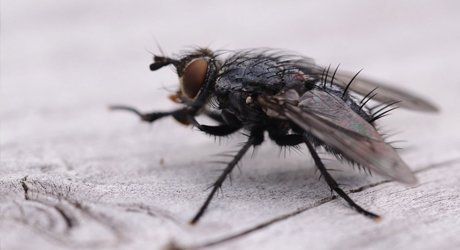fly: (98, 35, 445, 234)
